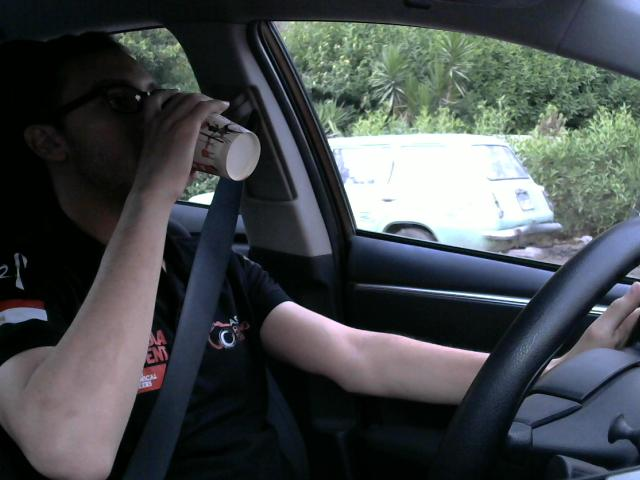Drinking: (144, 95, 266, 189)
